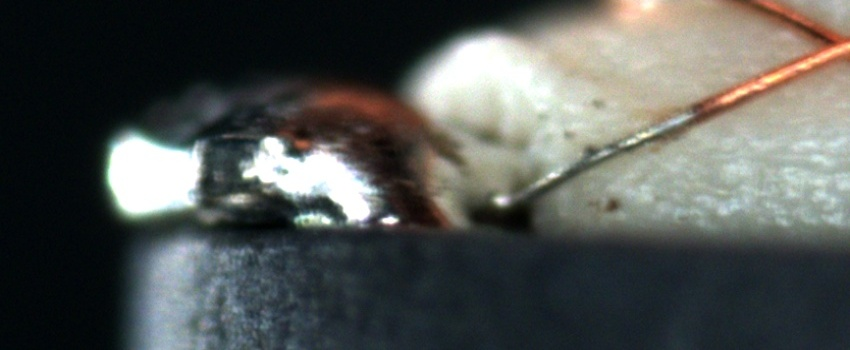CL: (793, 16, 849, 71)
DL: (674, 118, 850, 182)
TS: (490, 108, 695, 212)
TTCW: (492, 70, 775, 218)
